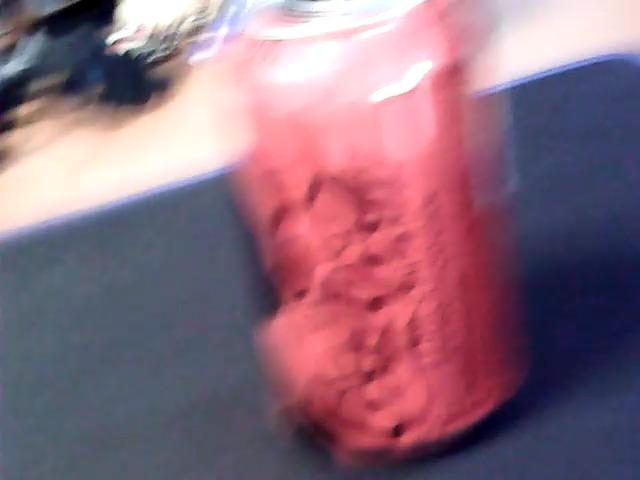coke: (226, 5, 526, 467)
